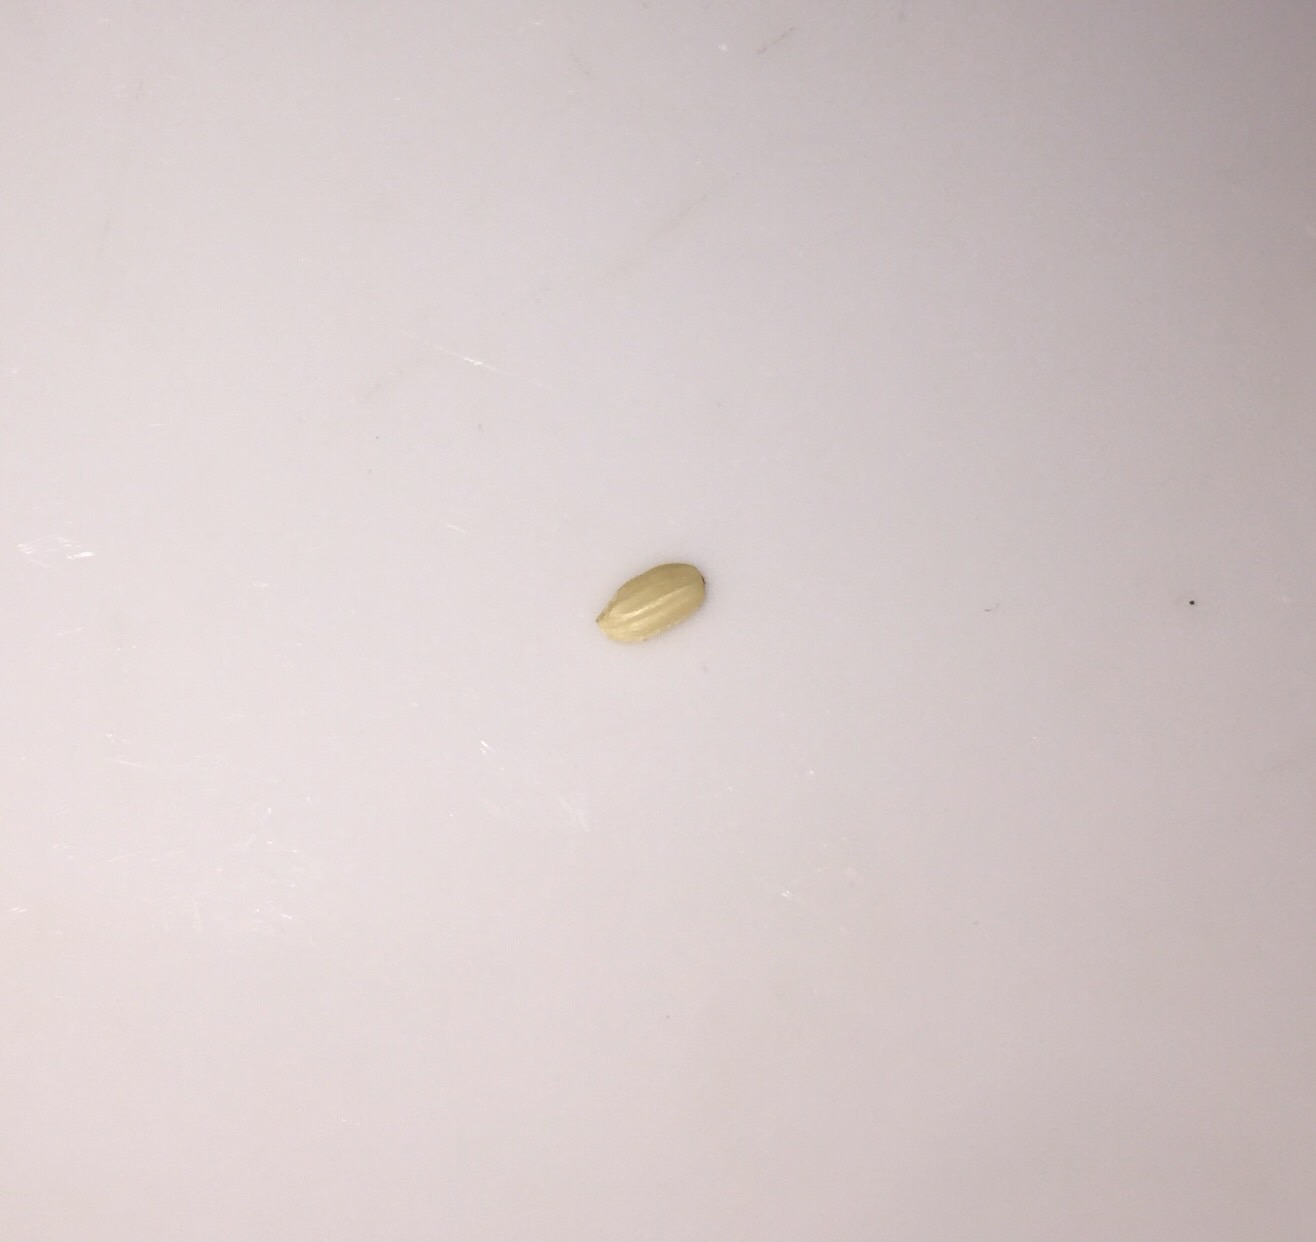Gao Lut Bac: (583, 524, 723, 671)
